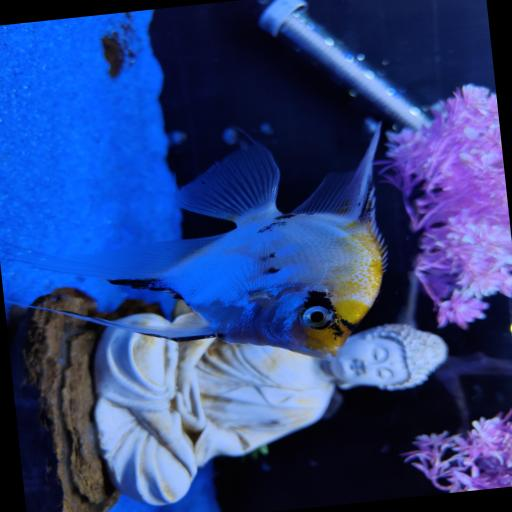Fish: (13, 125, 384, 358)
